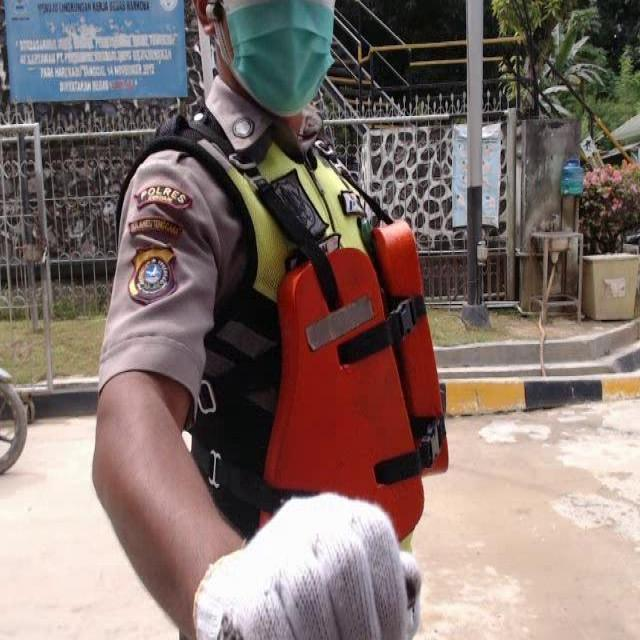person_with_vest: (97, 90, 477, 540)
